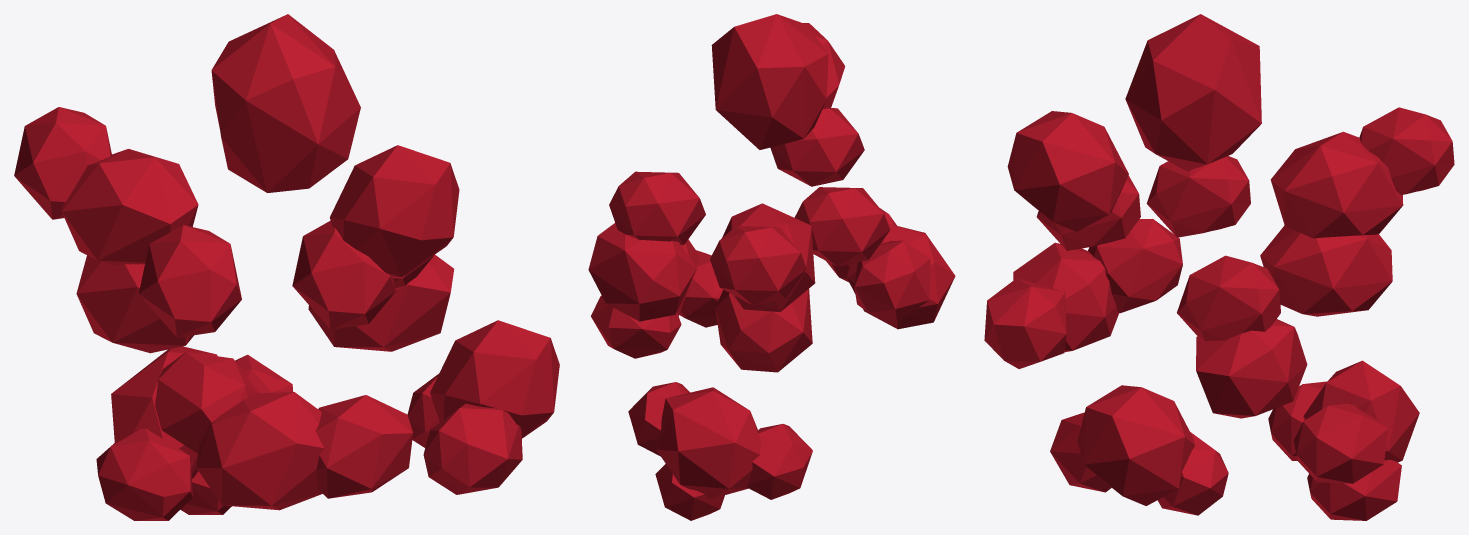
The model's file is tree-dead-leaves-037.glb.
3 renders of one model, left to right at view 1: azimuth 30°, elevation 25°; view 2: azimuth 150°, elevation 25°; view 3: azimuth 270°, elevation 25°, orthographic. The views are drawn at different scales.
Parts seen in each view (by area): view 1: Sphere.007_492; view 2: Sphere.007_492; view 3: Sphere.007_492.
Boxes of the visible parts, x1,y1,x2,y2 form: Sphere.007_492: [14, 14, 559, 520]; Sphere.007_492: [588, 14, 955, 520]; Sphere.007_492: [984, 14, 1454, 520].
Bounding box in the file's own units: 1.08 × 1.44 × 1.23.
